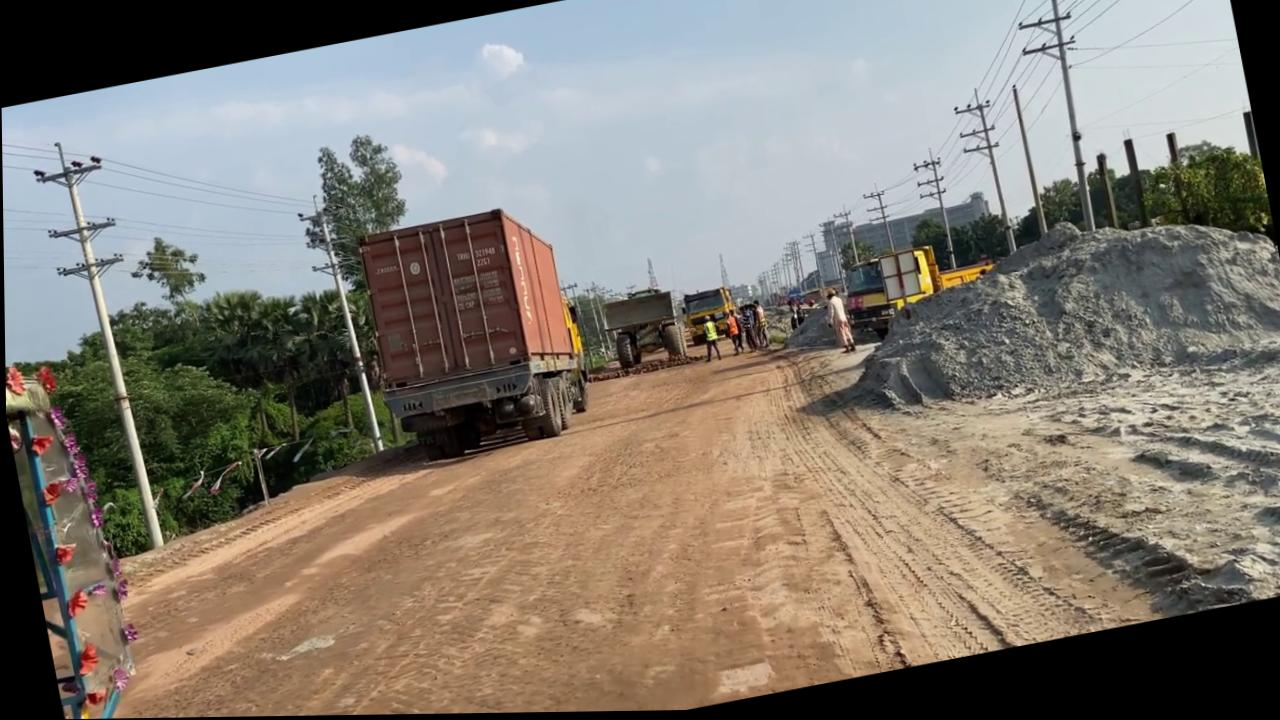Pole: (26, 132, 176, 559), (1003, 0, 1113, 241), (313, 201, 383, 457)
Tree: (347, 197, 595, 469), (833, 234, 1004, 349), (594, 285, 685, 374), (548, 292, 595, 415), (676, 285, 740, 348), (560, 295, 590, 385), (783, 286, 804, 309)
